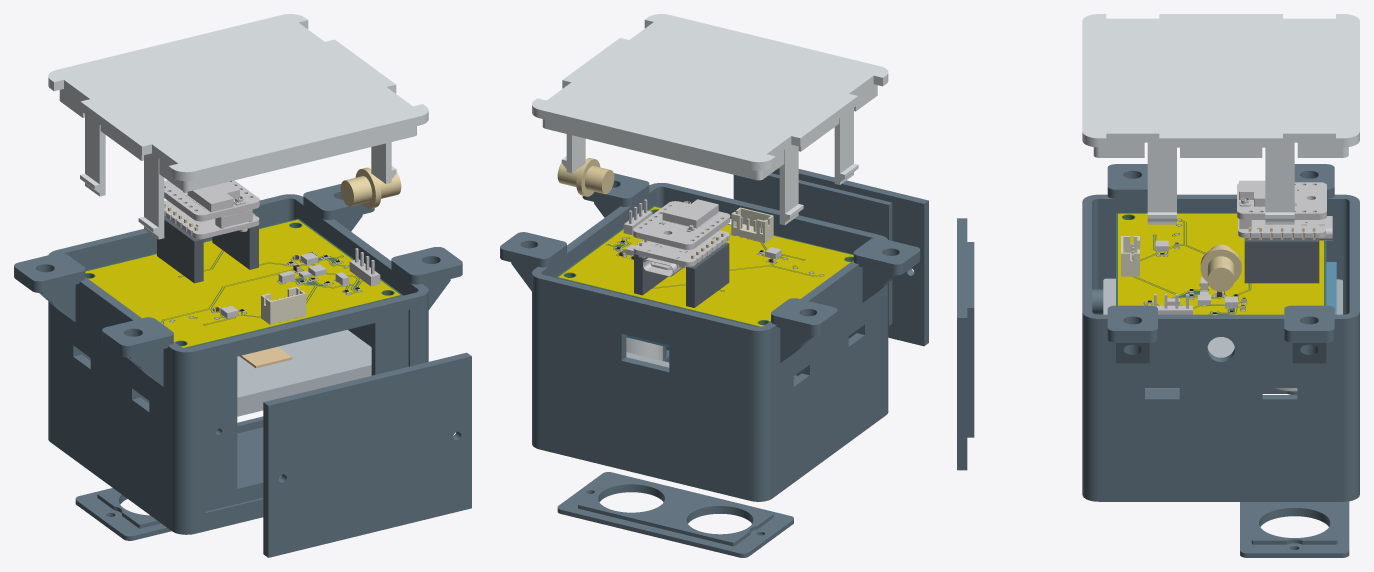
The model's file is exploded_status.glb.
3 renders of one model, left to right at view 1: azimuth 30°, elevation 25°; view 2: azimuth 150°, elevation 25°; view 3: azimuth 270°, elevation 25°, orthographic. The views are drawn at different scales.
Visible parts, largest first — view 1: exploded_status (×10); view 2: exploded_status (×9); view 3: exploded_status (×10).
Part boxes in pixels (x1,y1,x2,y2): exploded_status (×10): (14,14,471,557); exploded_status (×9): (500,14,928,557); exploded_status (×10): (957,14,1359,557).
Size of the model in its own units: 0.094 by 0.1134 by 0.0958.
